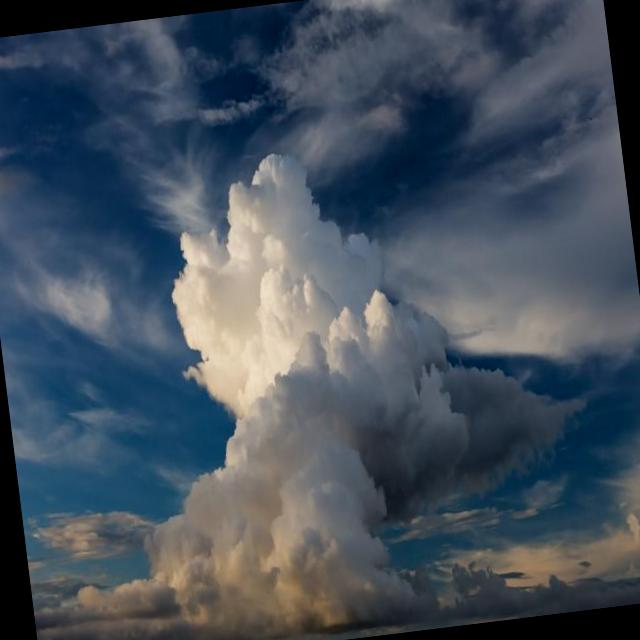cumulonimbus: (76, 81, 535, 640)
